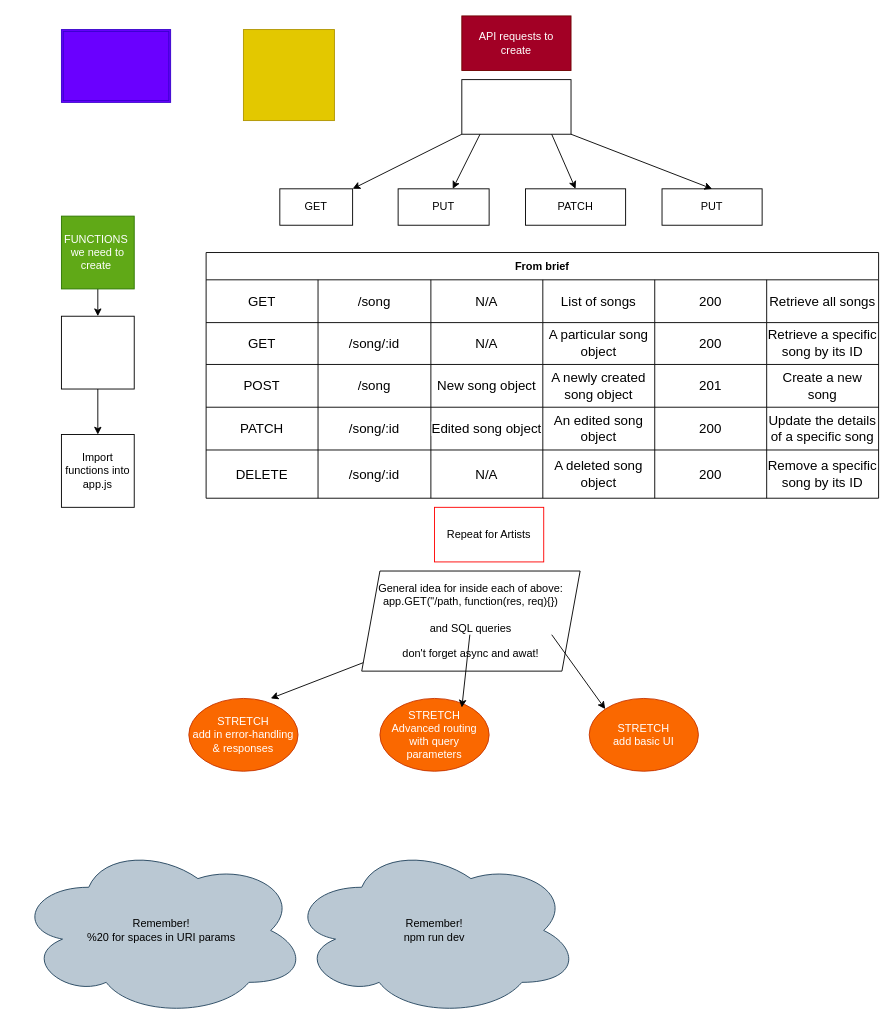
Image size: 895x1033. Some labels were removed from this diagram. Each missing label, with the centre of its shape:
create add edit delete: the point at 97,352
Create the table-schema; Artists and Songs: the point at 288,75
Files to create & install packages: the point at 116,65
reset database and seed: the point at 516,106
